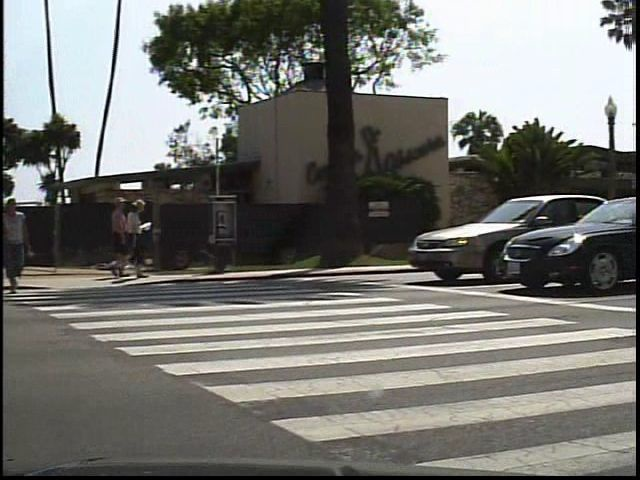person: (8, 194, 38, 294)
